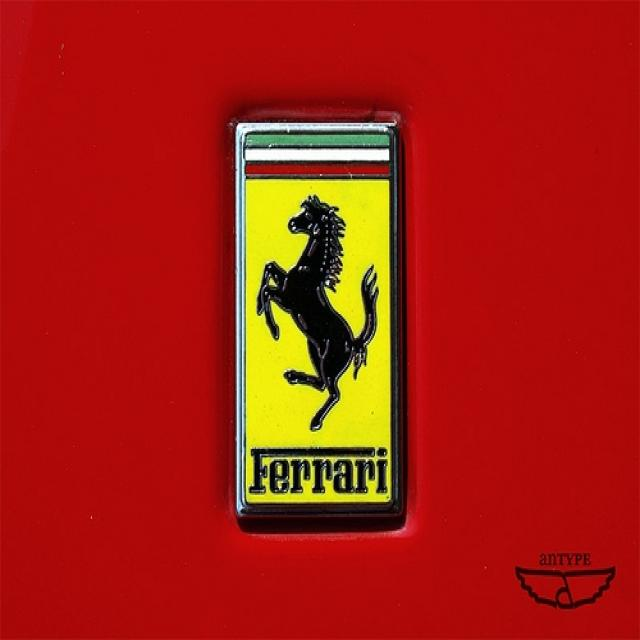ferrari: (240, 132, 393, 503)
